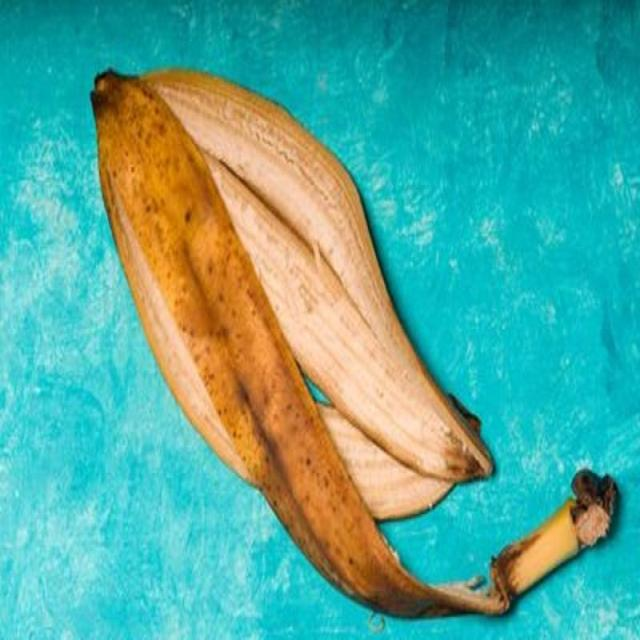Wet Waste: (89, 65, 621, 620)
